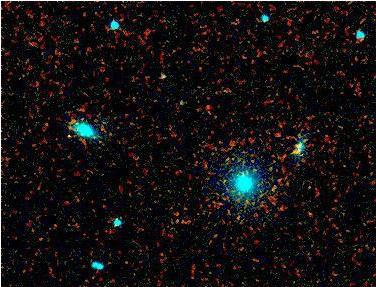star: (277, 138, 307, 168)
